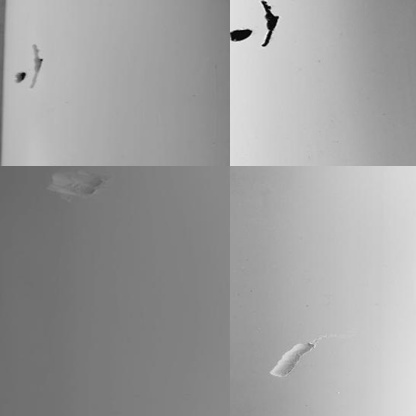kongdong: (256, 2, 285, 46), (226, 23, 249, 44), (11, 67, 28, 85)
sunshang: (266, 333, 322, 382), (42, 170, 114, 200), (30, 46, 43, 88)
